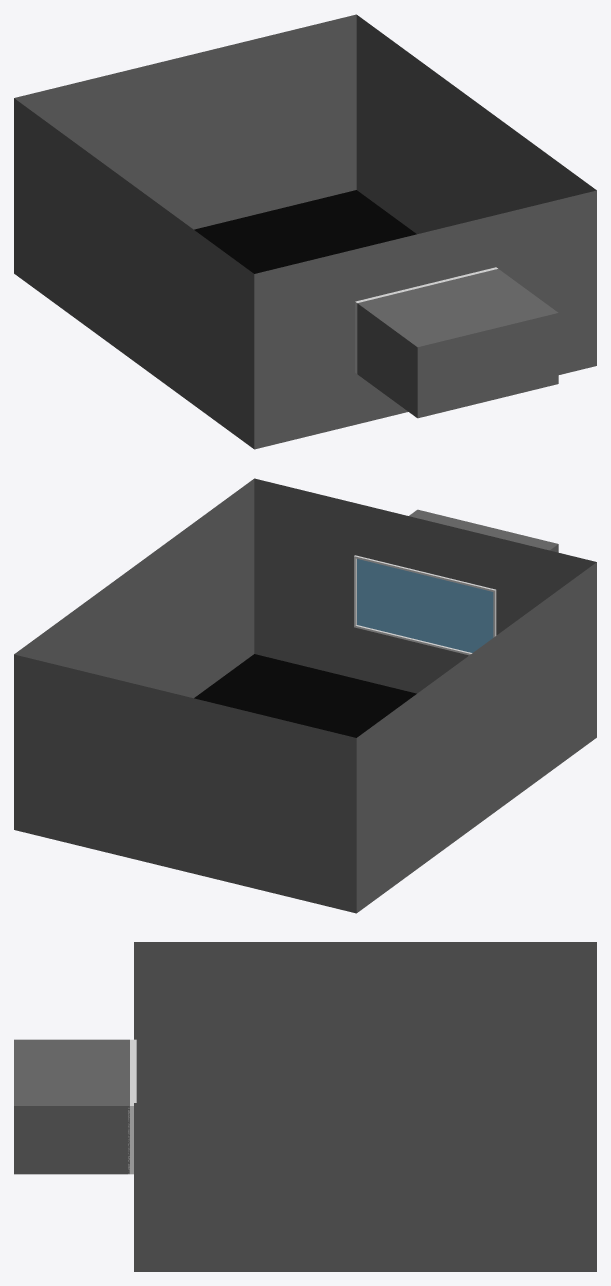
File: Replicate_Environment.fbx
The picture shows the model from 3 angles, top to bottom: view 1: azimuth 30°, elevation 25°; view 2: azimuth 150°, elevation 25°; view 3: azimuth 270°, elevation 25°; orthographic projection. The views are drawn at different scales.
Visible parts, largest first — view 1: Replicate_Environment; view 2: Replicate_Environment; view 3: Replicate_Environment.
Boxes of the visible parts, x1,y1,x2,y2 form: Replicate_Environment: (14, 14, 596, 449); Replicate_Environment: (14, 478, 596, 913); Replicate_Environment: (14, 942, 596, 1271).
Size of the model in its own units: 2074 by 1015 by 3174.
